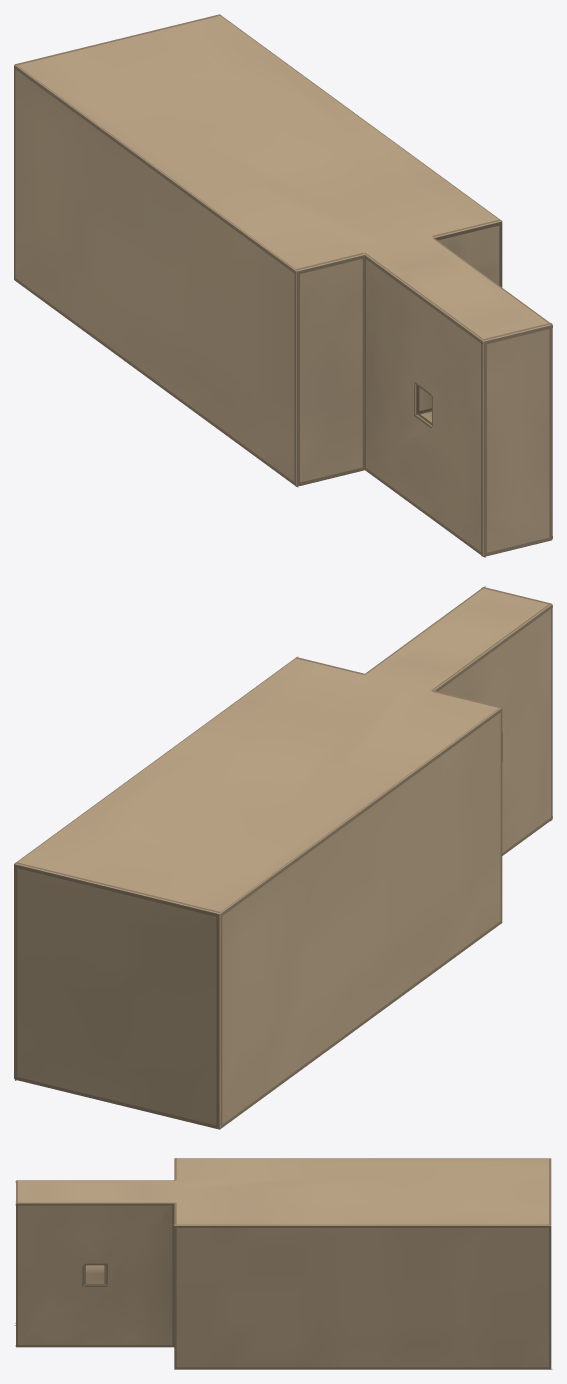
The picture shows the model from 3 angles, top to bottom: view 1: azimuth 30°, elevation 25°; view 2: azimuth 150°, elevation 25°; view 3: azimuth 270°, elevation 25°; orthographic projection. The views are drawn at different scales.
Visible parts, largest first — view 1: part-a; view 2: part-a; view 3: part-a.
Part boxes in pixels (x1=…): part-a: x1=14, y1=14, x2=552, y2=557; part-a: x1=14, y1=586, x2=552, y2=1129; part-a: x1=14, y1=1158, x2=552, y2=1369.
Bounding box in the file's own units: 0.1057 × 0.1058 × 0.3574.
